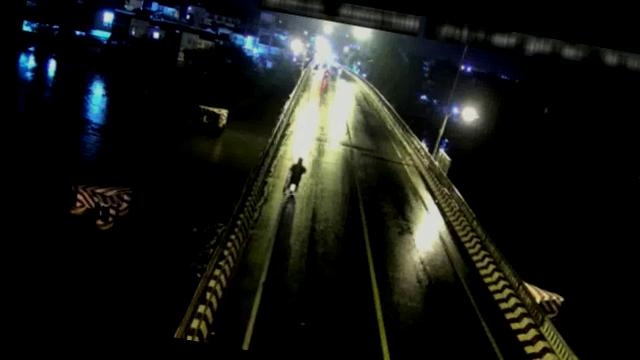Bike: (282, 154, 312, 197)
